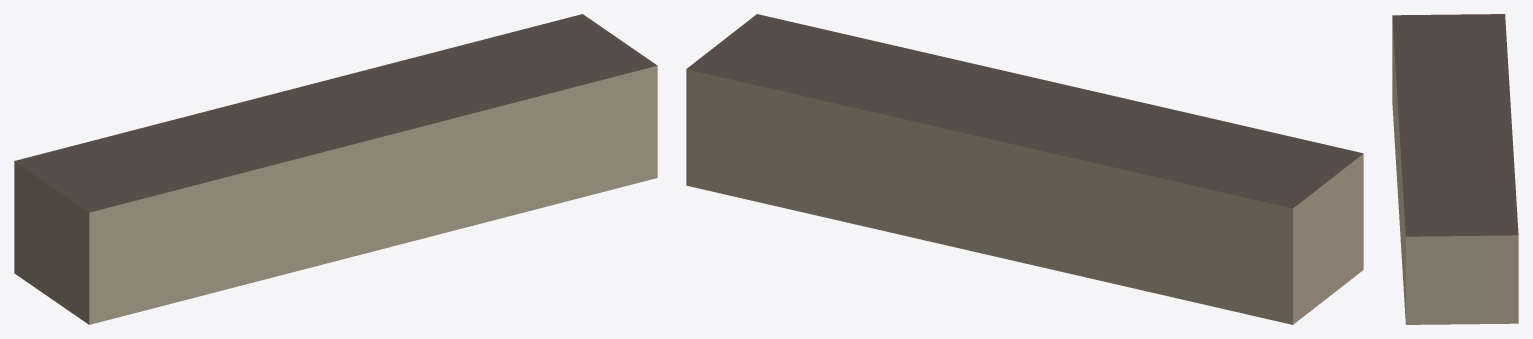
3 views of the same model, side by side, from view 1: azimuth 30°, elevation 25°; view 2: azimuth 150°, elevation 25°; view 3: azimuth 270°, elevation 25° (orthographic). The views are drawn at different scales.
Visible parts, largest first — view 1: HP-w1286956095; view 2: HP-w1286956095; view 3: HP-w1286956095.
Part boxes in pixels (x1,y1,x2,y2): HP-w1286956095: (14, 14, 657, 324); HP-w1286956095: (686, 14, 1363, 324); HP-w1286956095: (1392, 14, 1518, 324).
Bounding box in the file's own units: 48.66 × 9 × 11.65.
